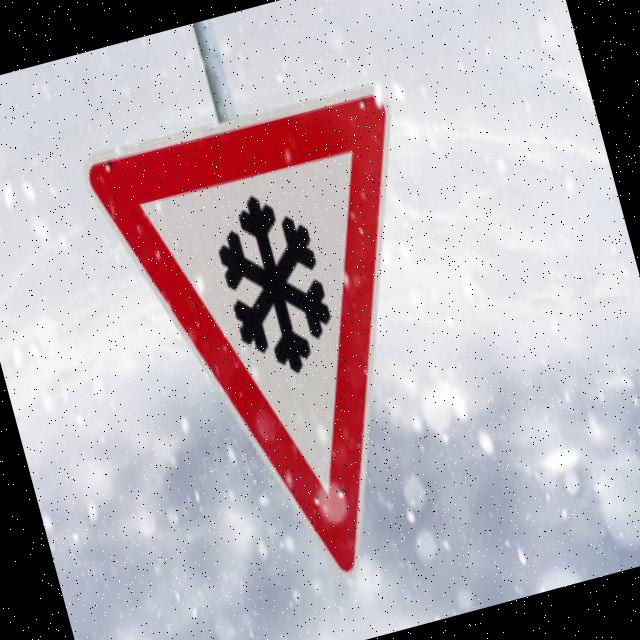snow_warning: (70, 55, 516, 634)
